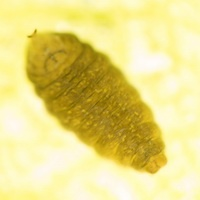insect: (27, 31, 166, 172)
